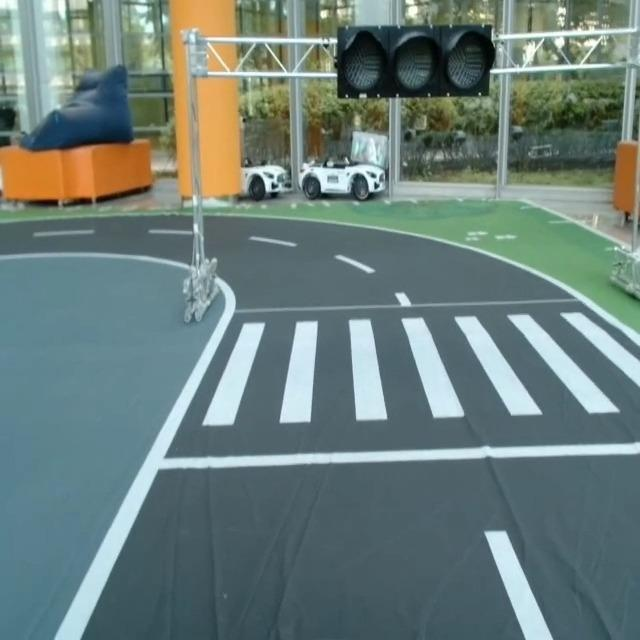traffic-light: (333, 22, 499, 106)
